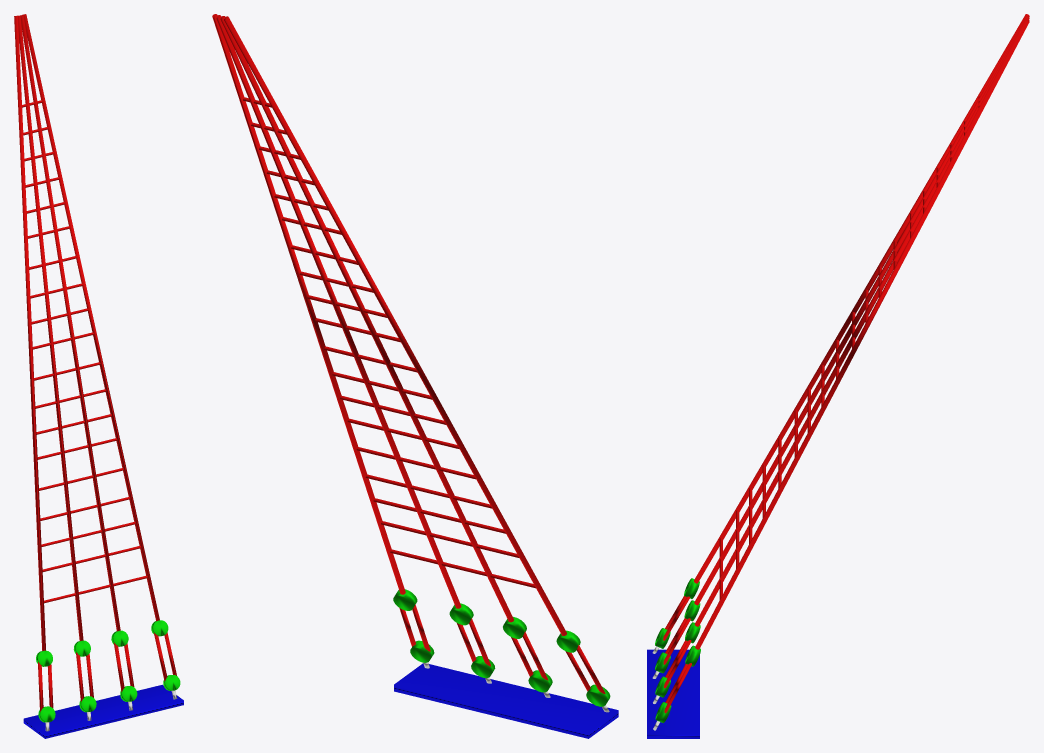
File: 8rope2r.fbx
3 views of the same model, side by side, from view 1: azimuth 30°, elevation 25°; view 2: azimuth 150°, elevation 25°; view 3: azimuth 270°, elevation 25° (orthographic). The views are drawn at different scales.
Visible parts, largest first — view 1: 2r; view 2: 2r; view 3: 2r.
Part boxes in pixels (left/top/right/bottom): 2r: left=14, top=14, right=183, bottom=738; 2r: left=212, top=14, right=618, bottom=738; 2r: left=647, top=14, right=1029, bottom=738.
Size of the model in its own units: 303 by 1200 by 581.
